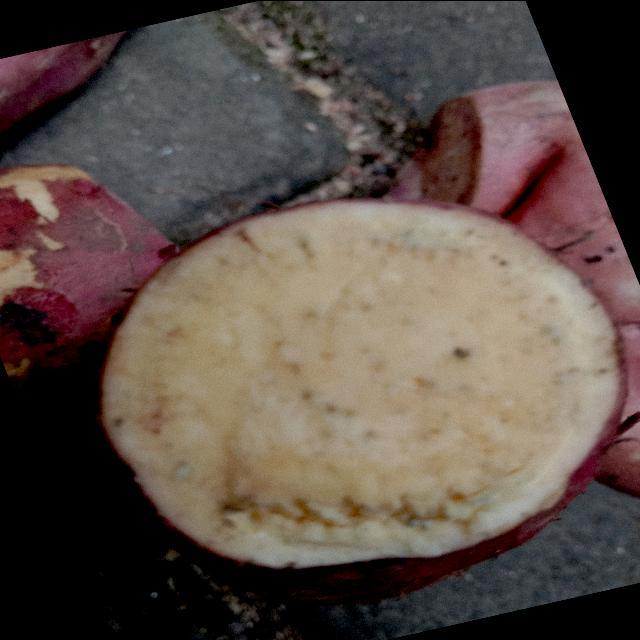Healthy Sweet Potato: (100, 200, 620, 566)
